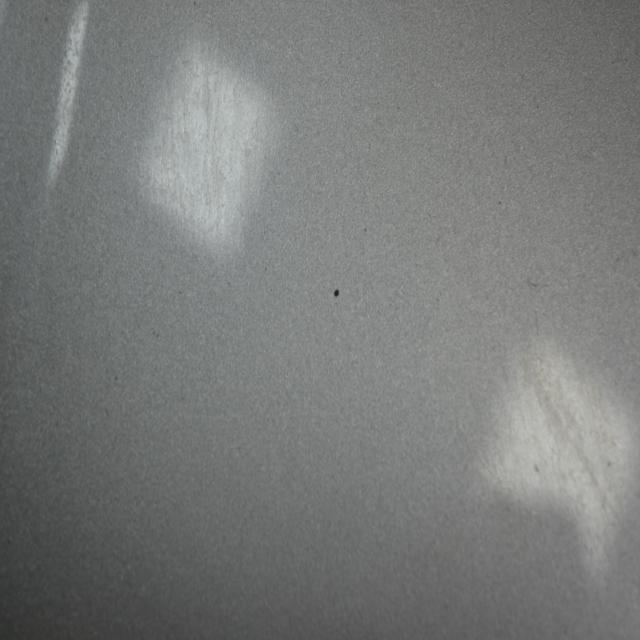dirt: (329, 279, 344, 306)
water marks: (512, 317, 639, 558), (148, 49, 264, 243)
